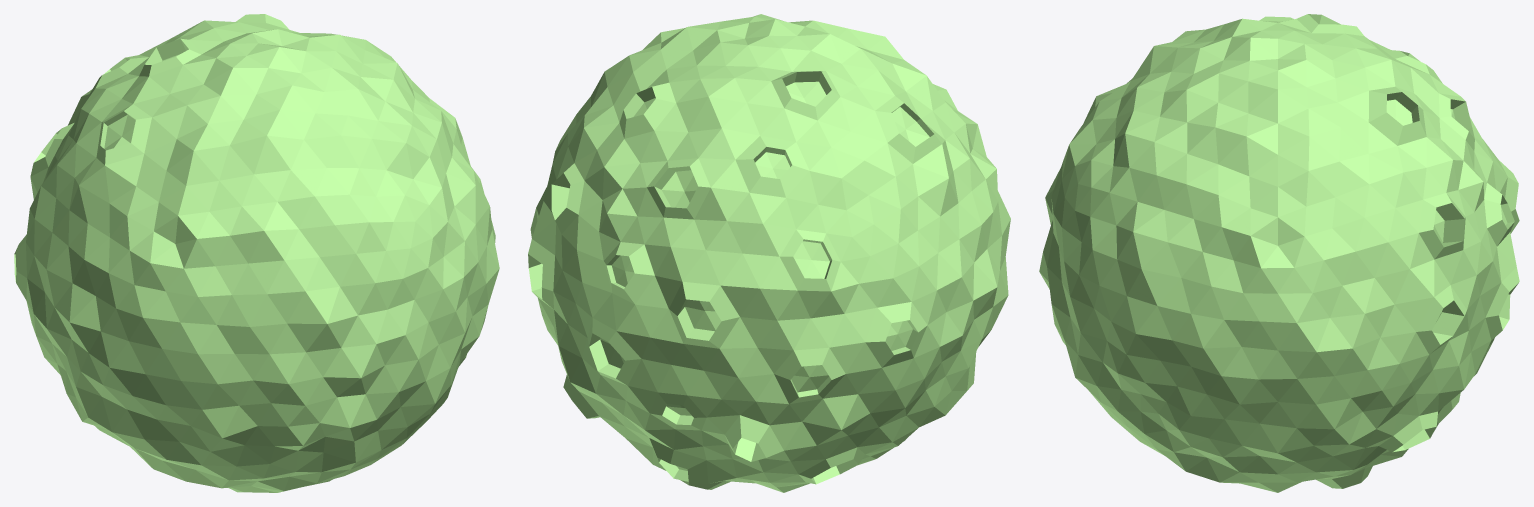
File: moon.dae
3 renders of one model, left to right at view 1: azimuth 30°, elevation 25°; view 2: azimuth 150°, elevation 25°; view 3: azimuth 270°, elevation 25°, orthographic.
Visible parts, largest first — view 1: moon; view 2: moon; view 3: moon.
Part boxes in pixels (<box>): moon: <box>14,14,499,492</box>; moon: <box>528,14,1010,492</box>; moon: <box>1039,14,1519,492</box>.
Bounding box in the file's own units: 2.1 × 2.11 × 2.13.
